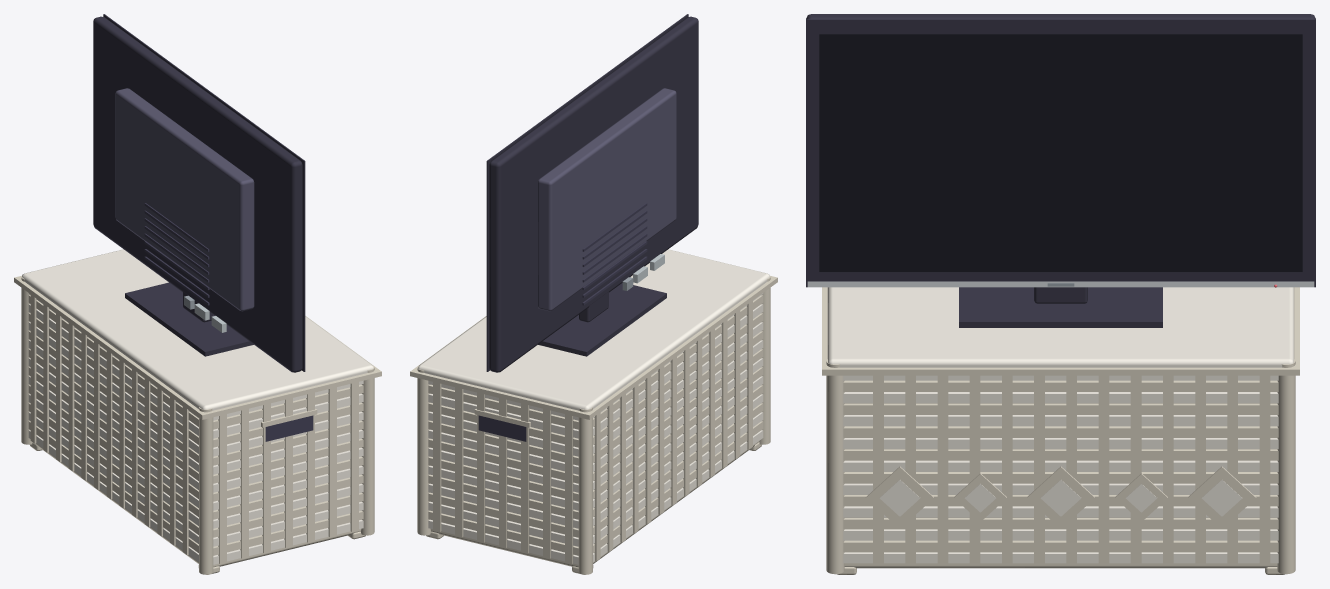
The picture shows the model from 3 angles, left to right: view 1: azimuth 30°, elevation 25°; view 2: azimuth 150°, elevation 25°; view 3: azimuth 270°, elevation 25°; orthographic projection. The views are drawn at different scales.
Parts seen in each view (by area): view 1: tv; view 2: tv; view 3: tv, ecran.
Part boxes in pixels (x1,y1,x2,y2): tv: (14, 14, 381, 574); tv: (410, 14, 777, 574); tv: (806, 14, 1315, 574); ecran: (819, 34, 1302, 272).
Bounding box in the file's own units: 0.49 × 1.05 × 0.95.
